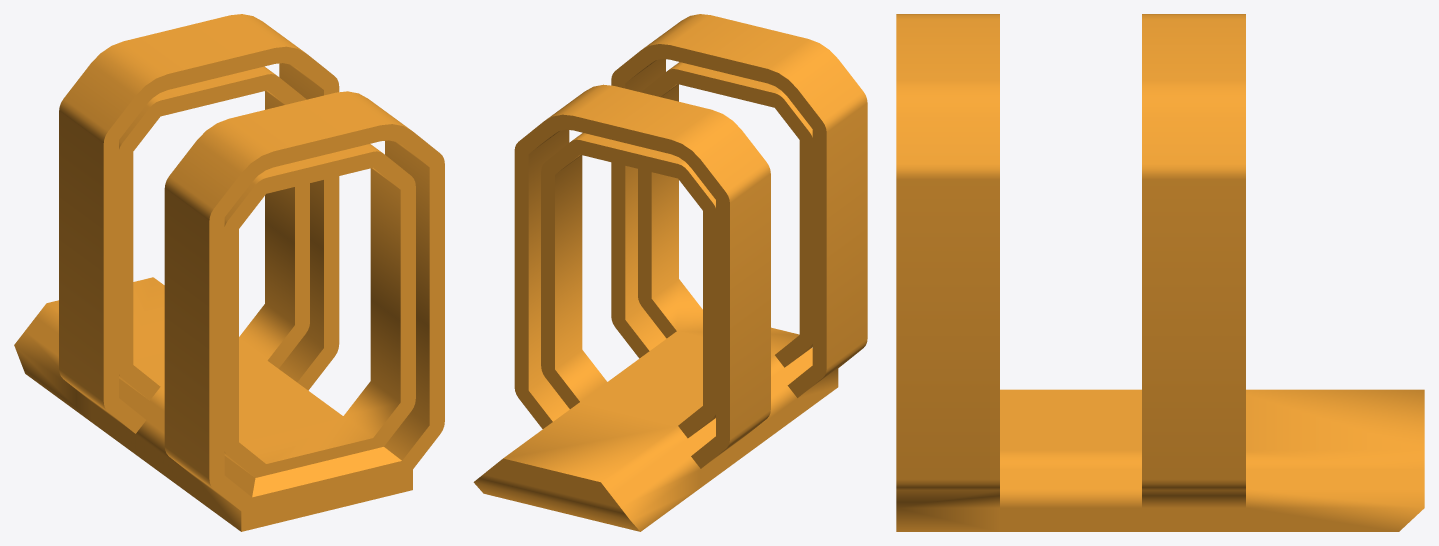
Rendered from part_sight_03.fbx.
3 renders of one model, left to right at view 1: azimuth 30°, elevation 25°; view 2: azimuth 150°, elevation 25°; view 3: azimuth 270°, elevation 25°, orthographic. The views are drawn at different scales.
Parts seen in each view (by area): view 1: part_sight_03; view 2: part_sight_03; view 3: part_sight_03.
Part boxes in pixels (box(x1,y1,x2,y2)): part_sight_03: box(14, 14, 444, 531); part_sight_03: box(473, 14, 867, 531); part_sight_03: box(896, 14, 1424, 531).
Size of the model in its own units: 5.43 by 8.21 by 9.07.
